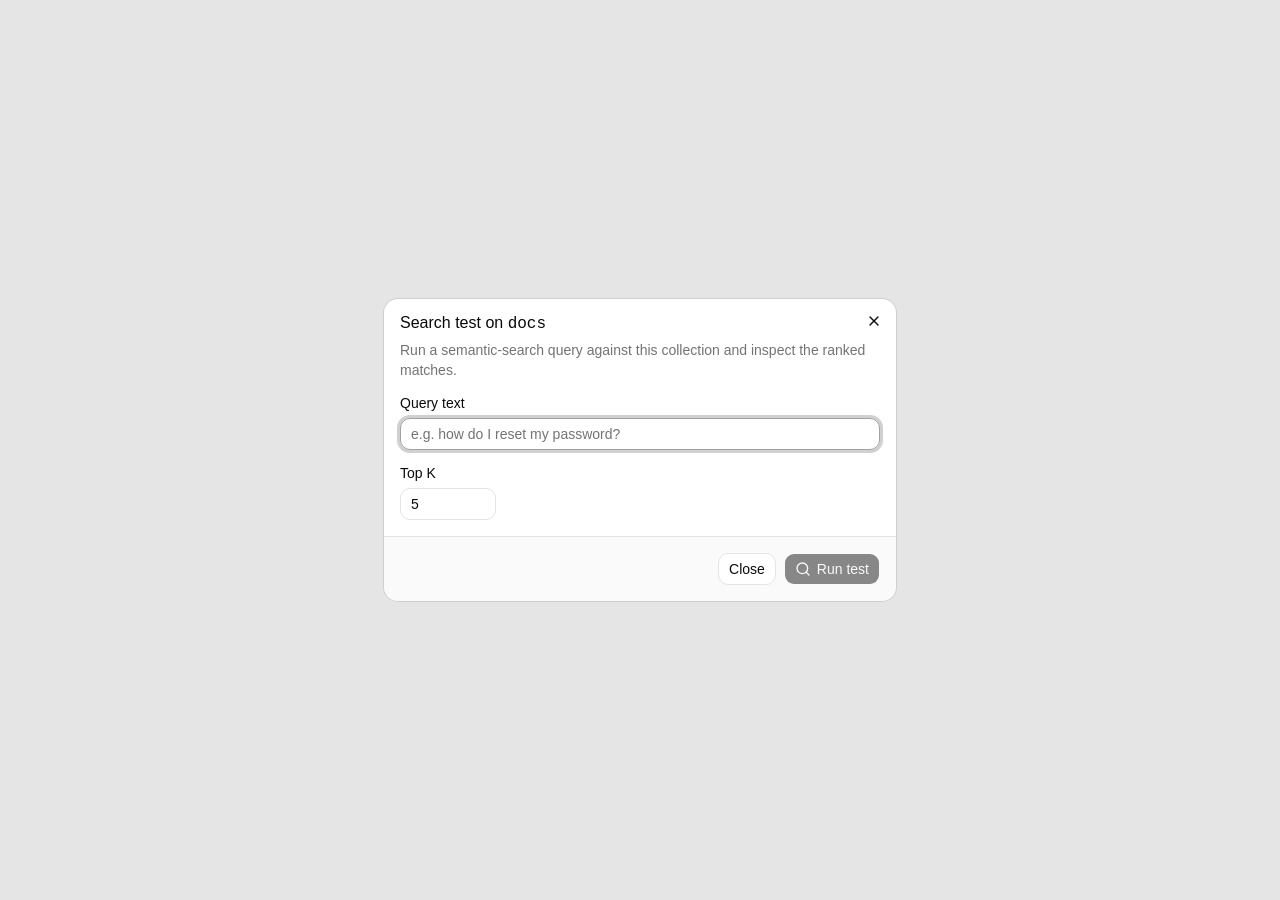
SearchTestModal › renders 'No matches' when there are no results
Type "hello" into the field labelled "Query text" at (640, 434), box x1=400 y1=418 x2=880 y2=450
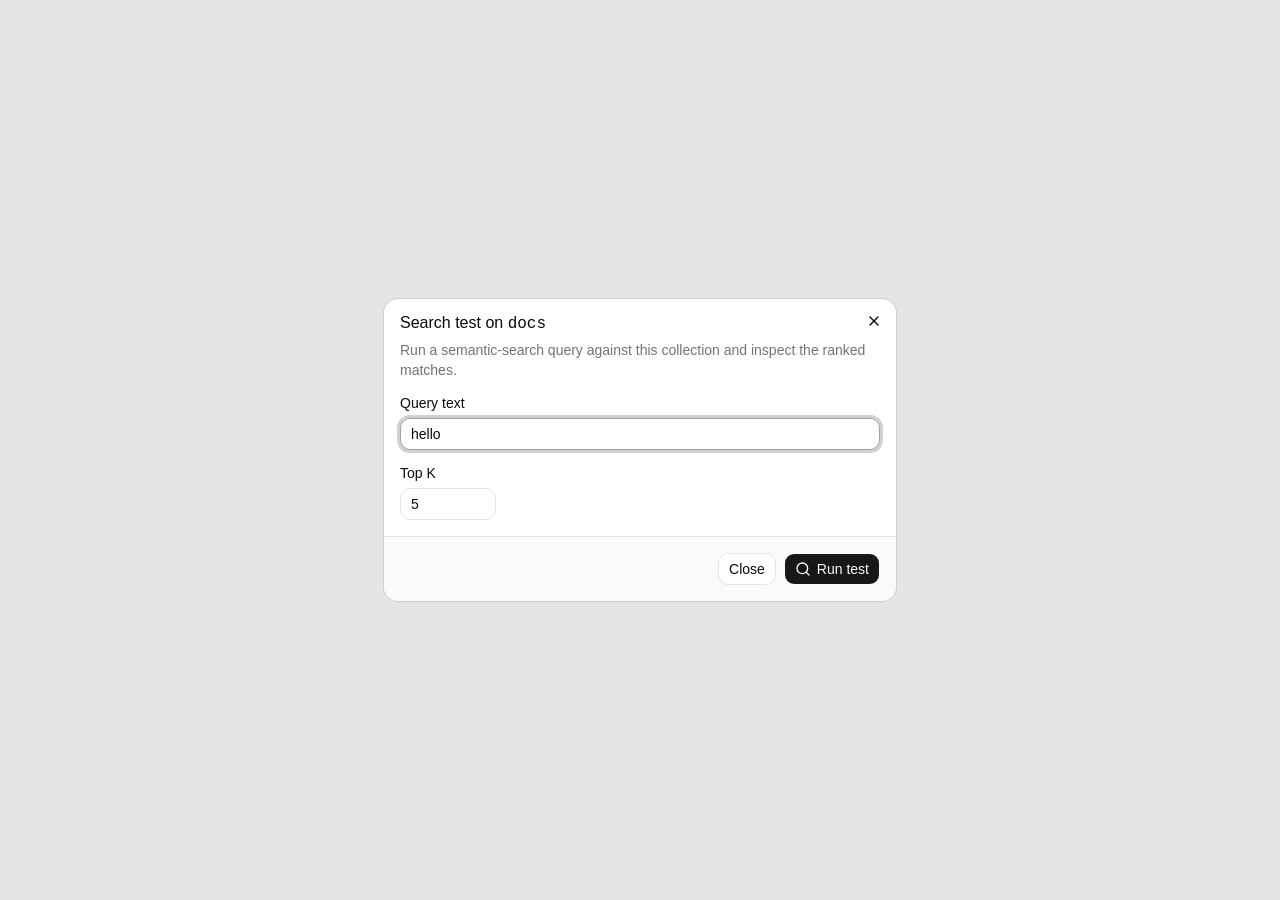
Click the button "Run test" at (832, 569), box x1=784 y1=553 x2=880 y2=585
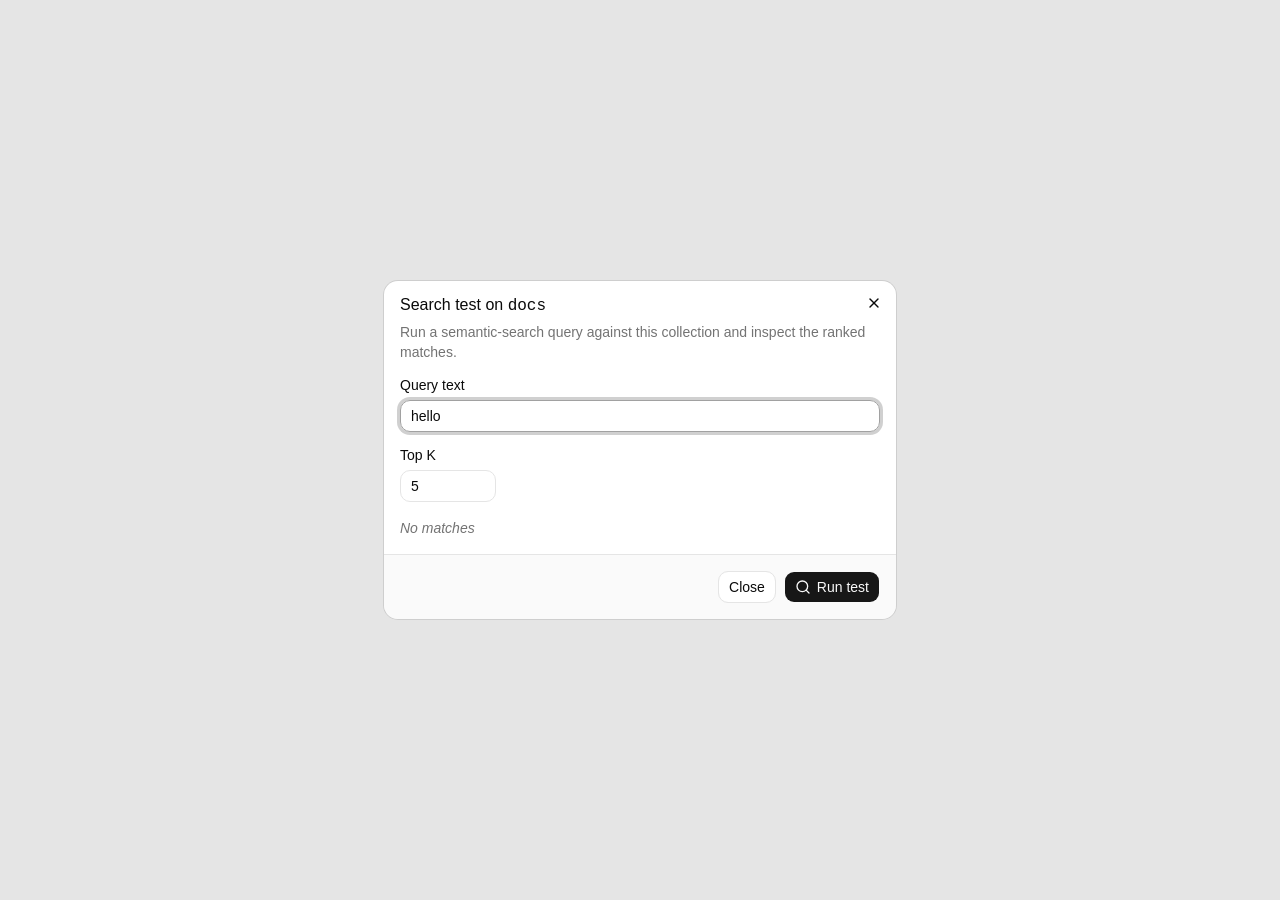
Check: the text "No matches" is shown, box x1=400 y1=520 x2=475 y2=536
